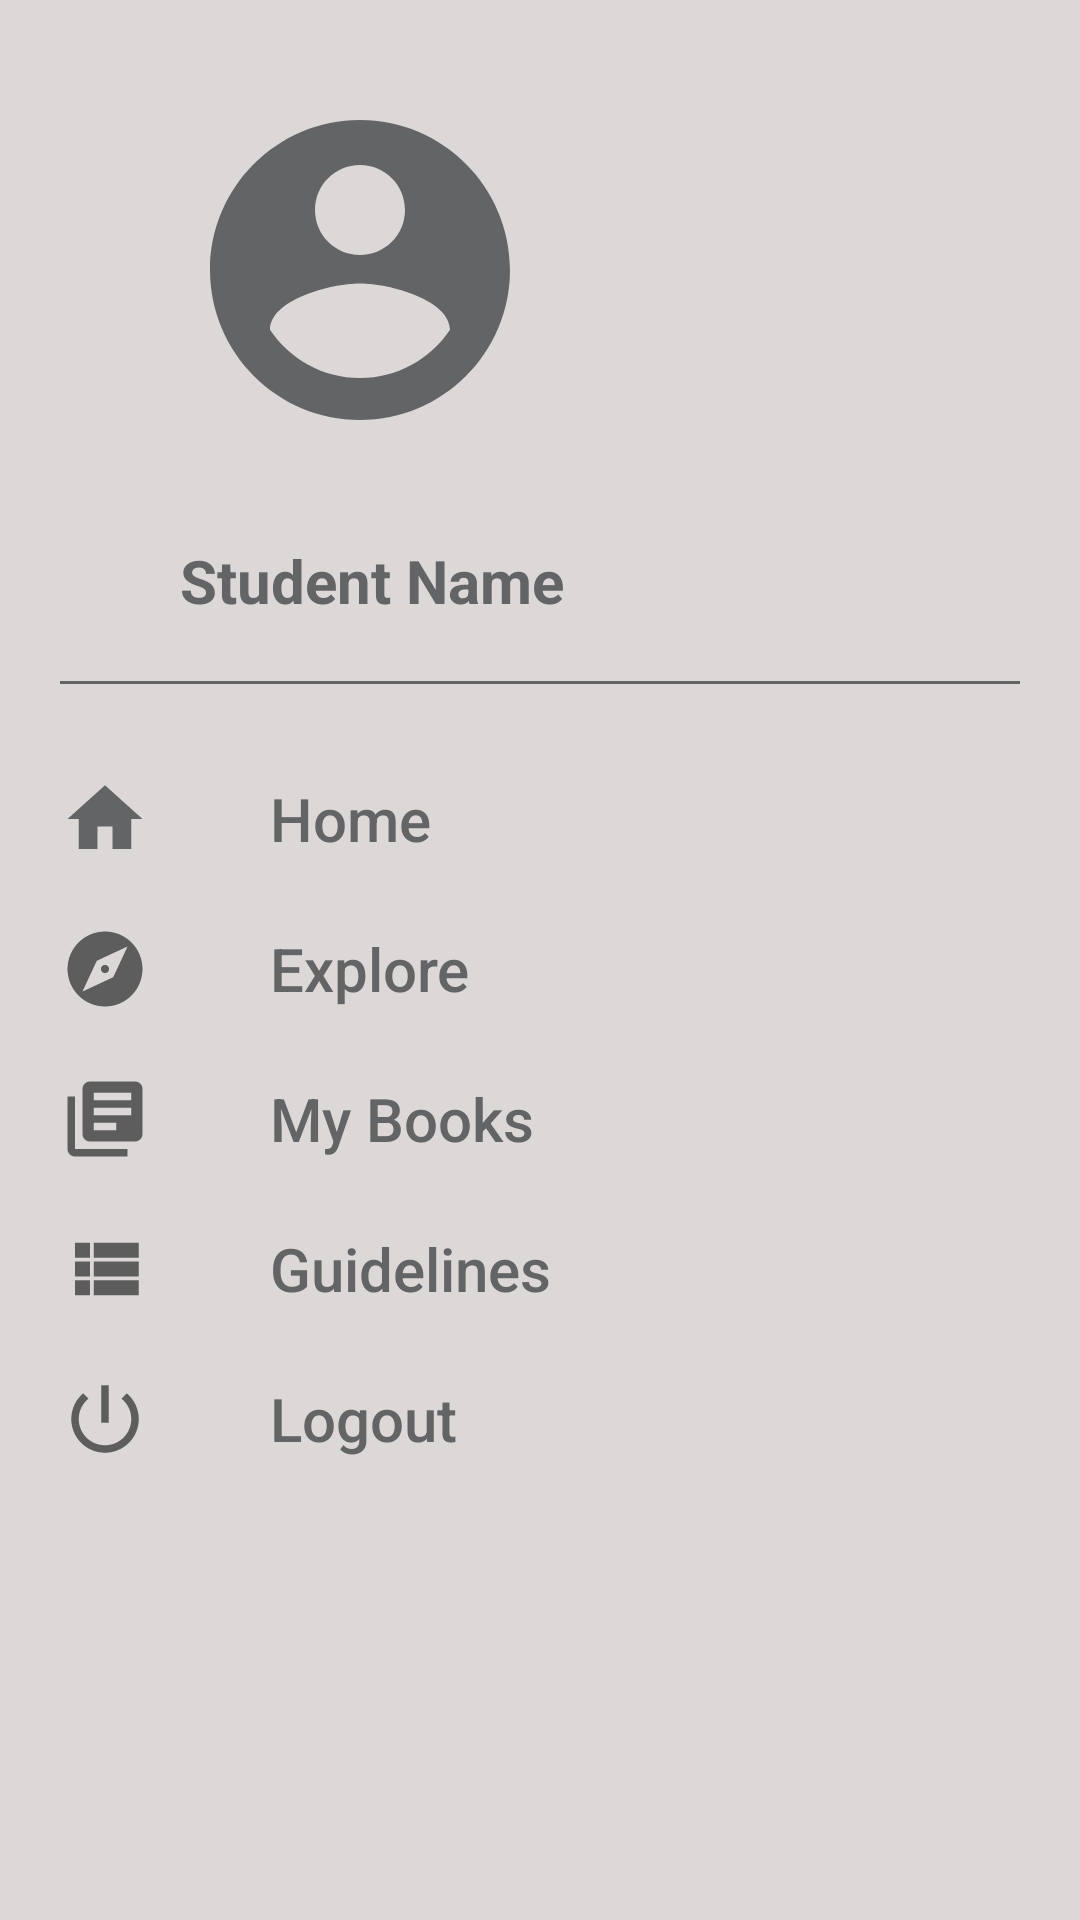

Where icons sit on this 1080px x 1920px app screen, as {"x1": x1, "y1": y1, "x2": x2, "y2": y2}:
account circle: {"x1": 210, "y1": 120, "x2": 510, "y2": 420}
library books: {"x1": 67, "y1": 1081, "x2": 143, "y2": 1157}
view list: {"x1": 75, "y1": 1242, "x2": 139, "y2": 1296}
